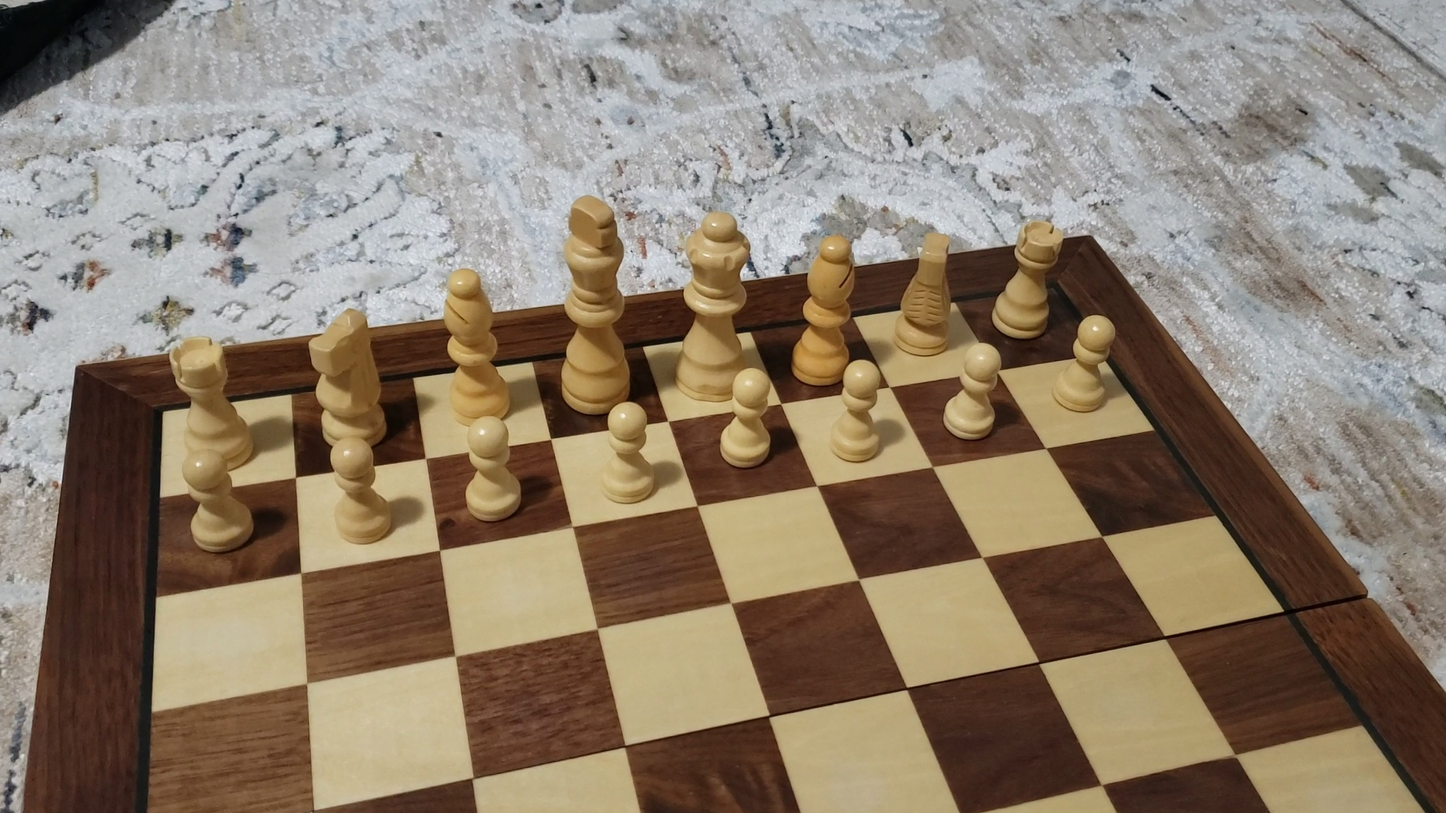white-bishop: (440, 263, 511, 430), (789, 231, 860, 388)
white-king: (554, 188, 633, 421)
white-knight: (292, 304, 407, 452), (891, 228, 955, 361)
white-pawn: (176, 447, 259, 558), (323, 438, 398, 549), (456, 413, 527, 528), (1047, 311, 1122, 418), (935, 340, 1009, 446), (592, 399, 661, 509), (712, 365, 781, 474), (824, 357, 890, 467)
white-queen: (671, 206, 755, 404)
white-rook: (166, 335, 258, 473), (988, 217, 1064, 343)
